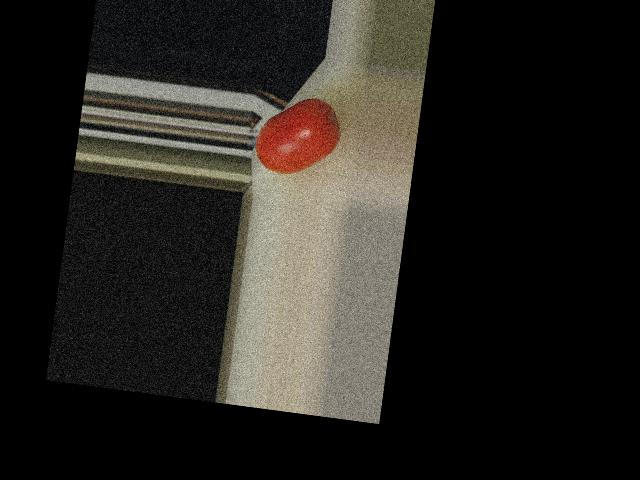tomato: (252, 91, 344, 180)
